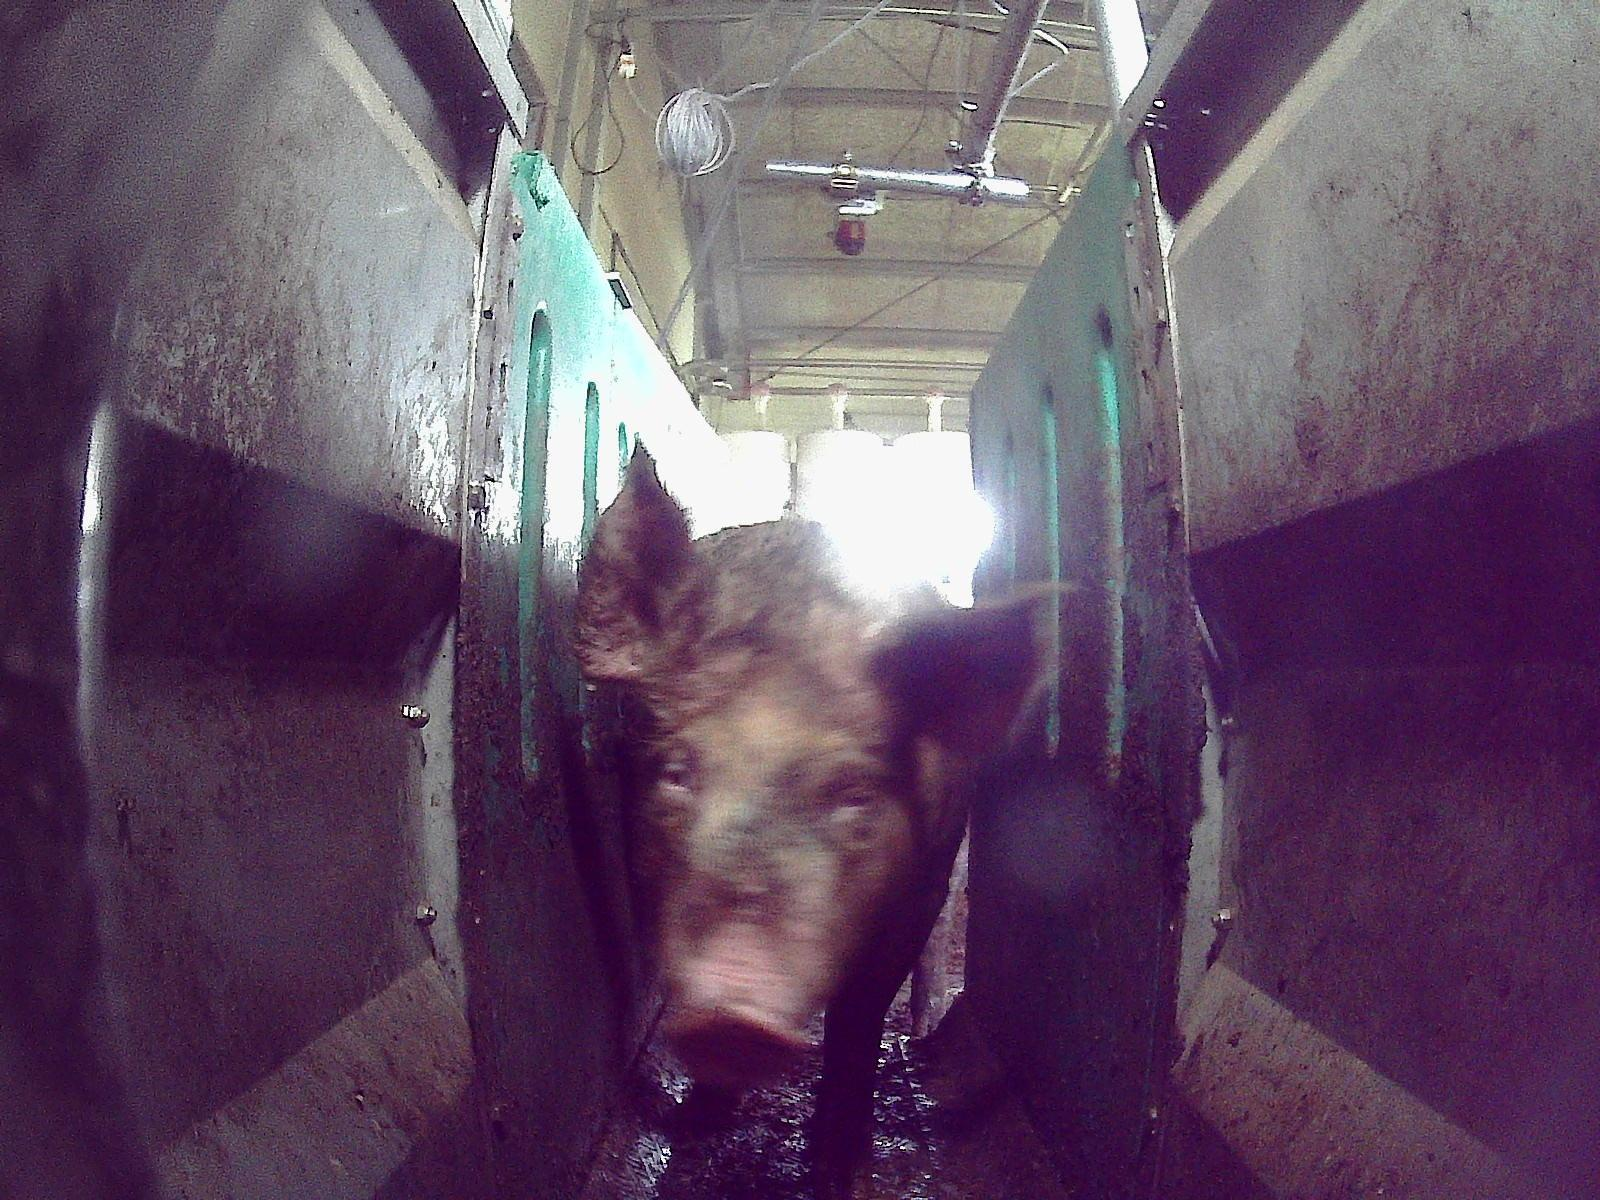Face: (633, 628, 906, 1082)
